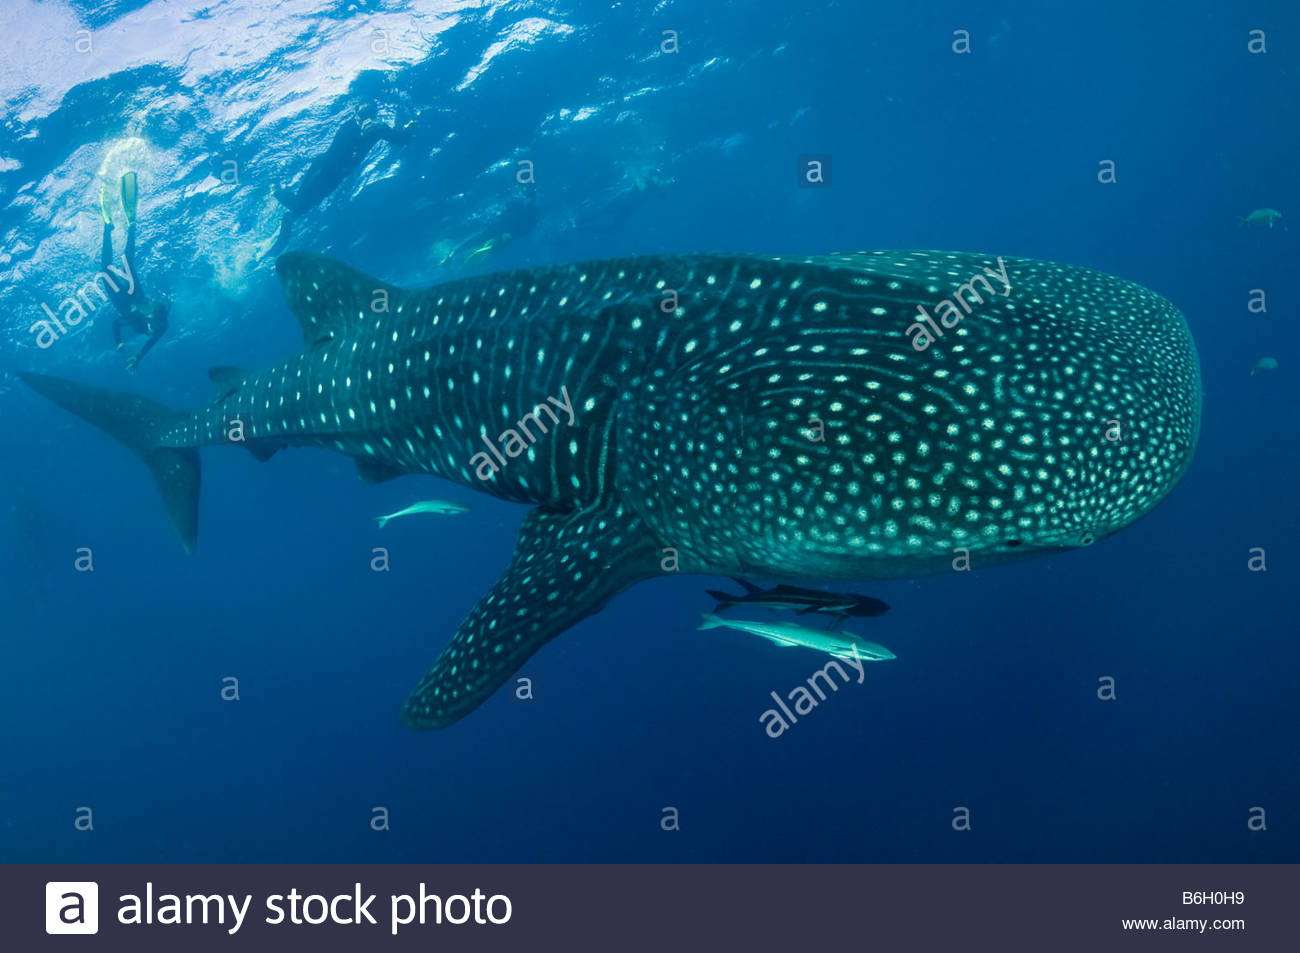Rhincodon_typusw: (31, 203, 1230, 726)
